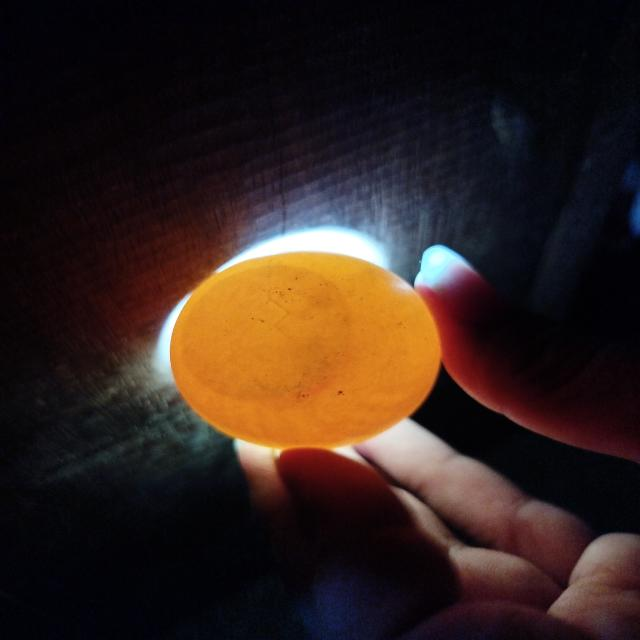Camara de Ar: (180, 264, 350, 401)
Rachadura: (251, 286, 290, 335)
